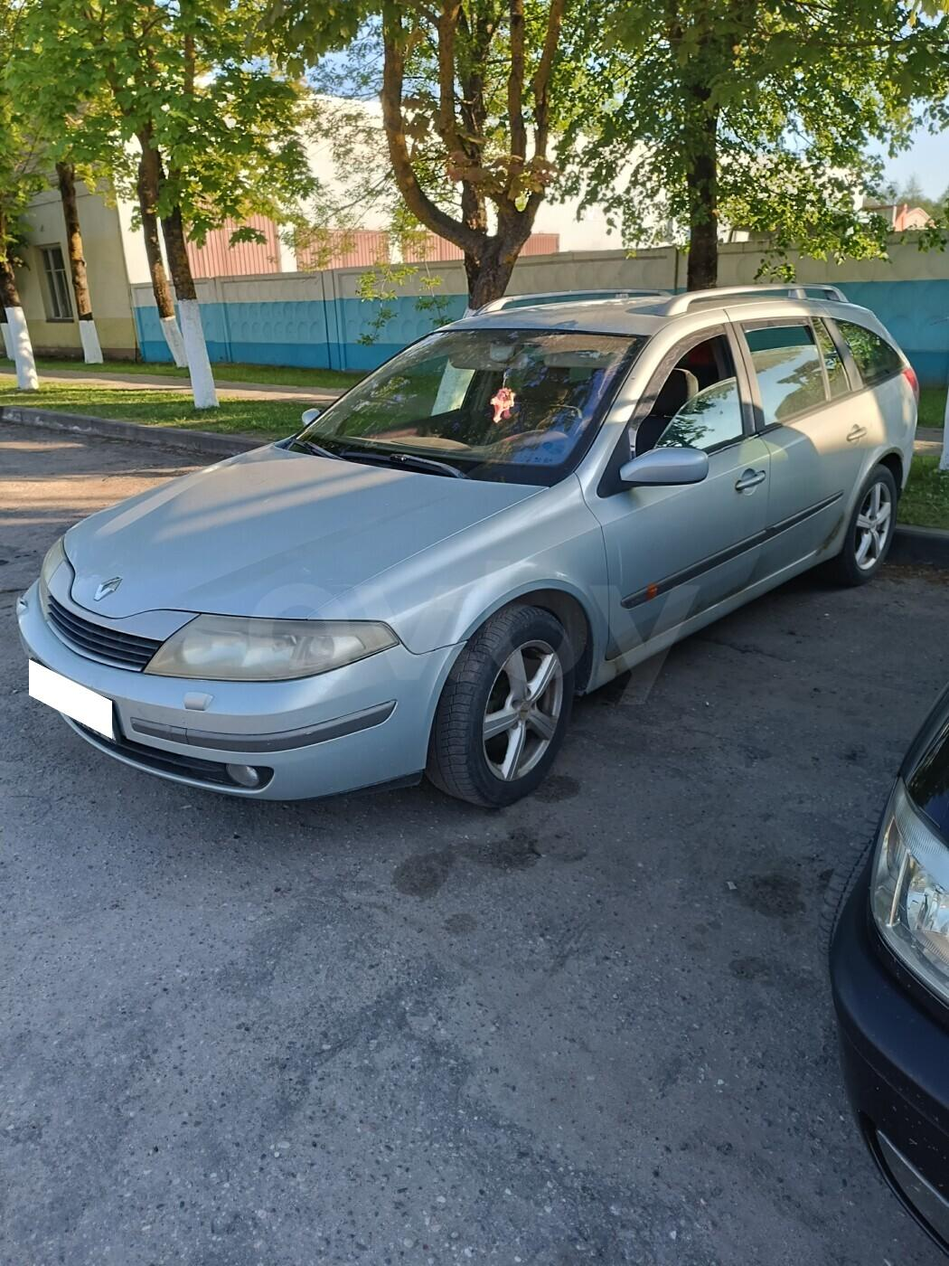Laguna_2001-2005: (17, 291, 916, 807)
